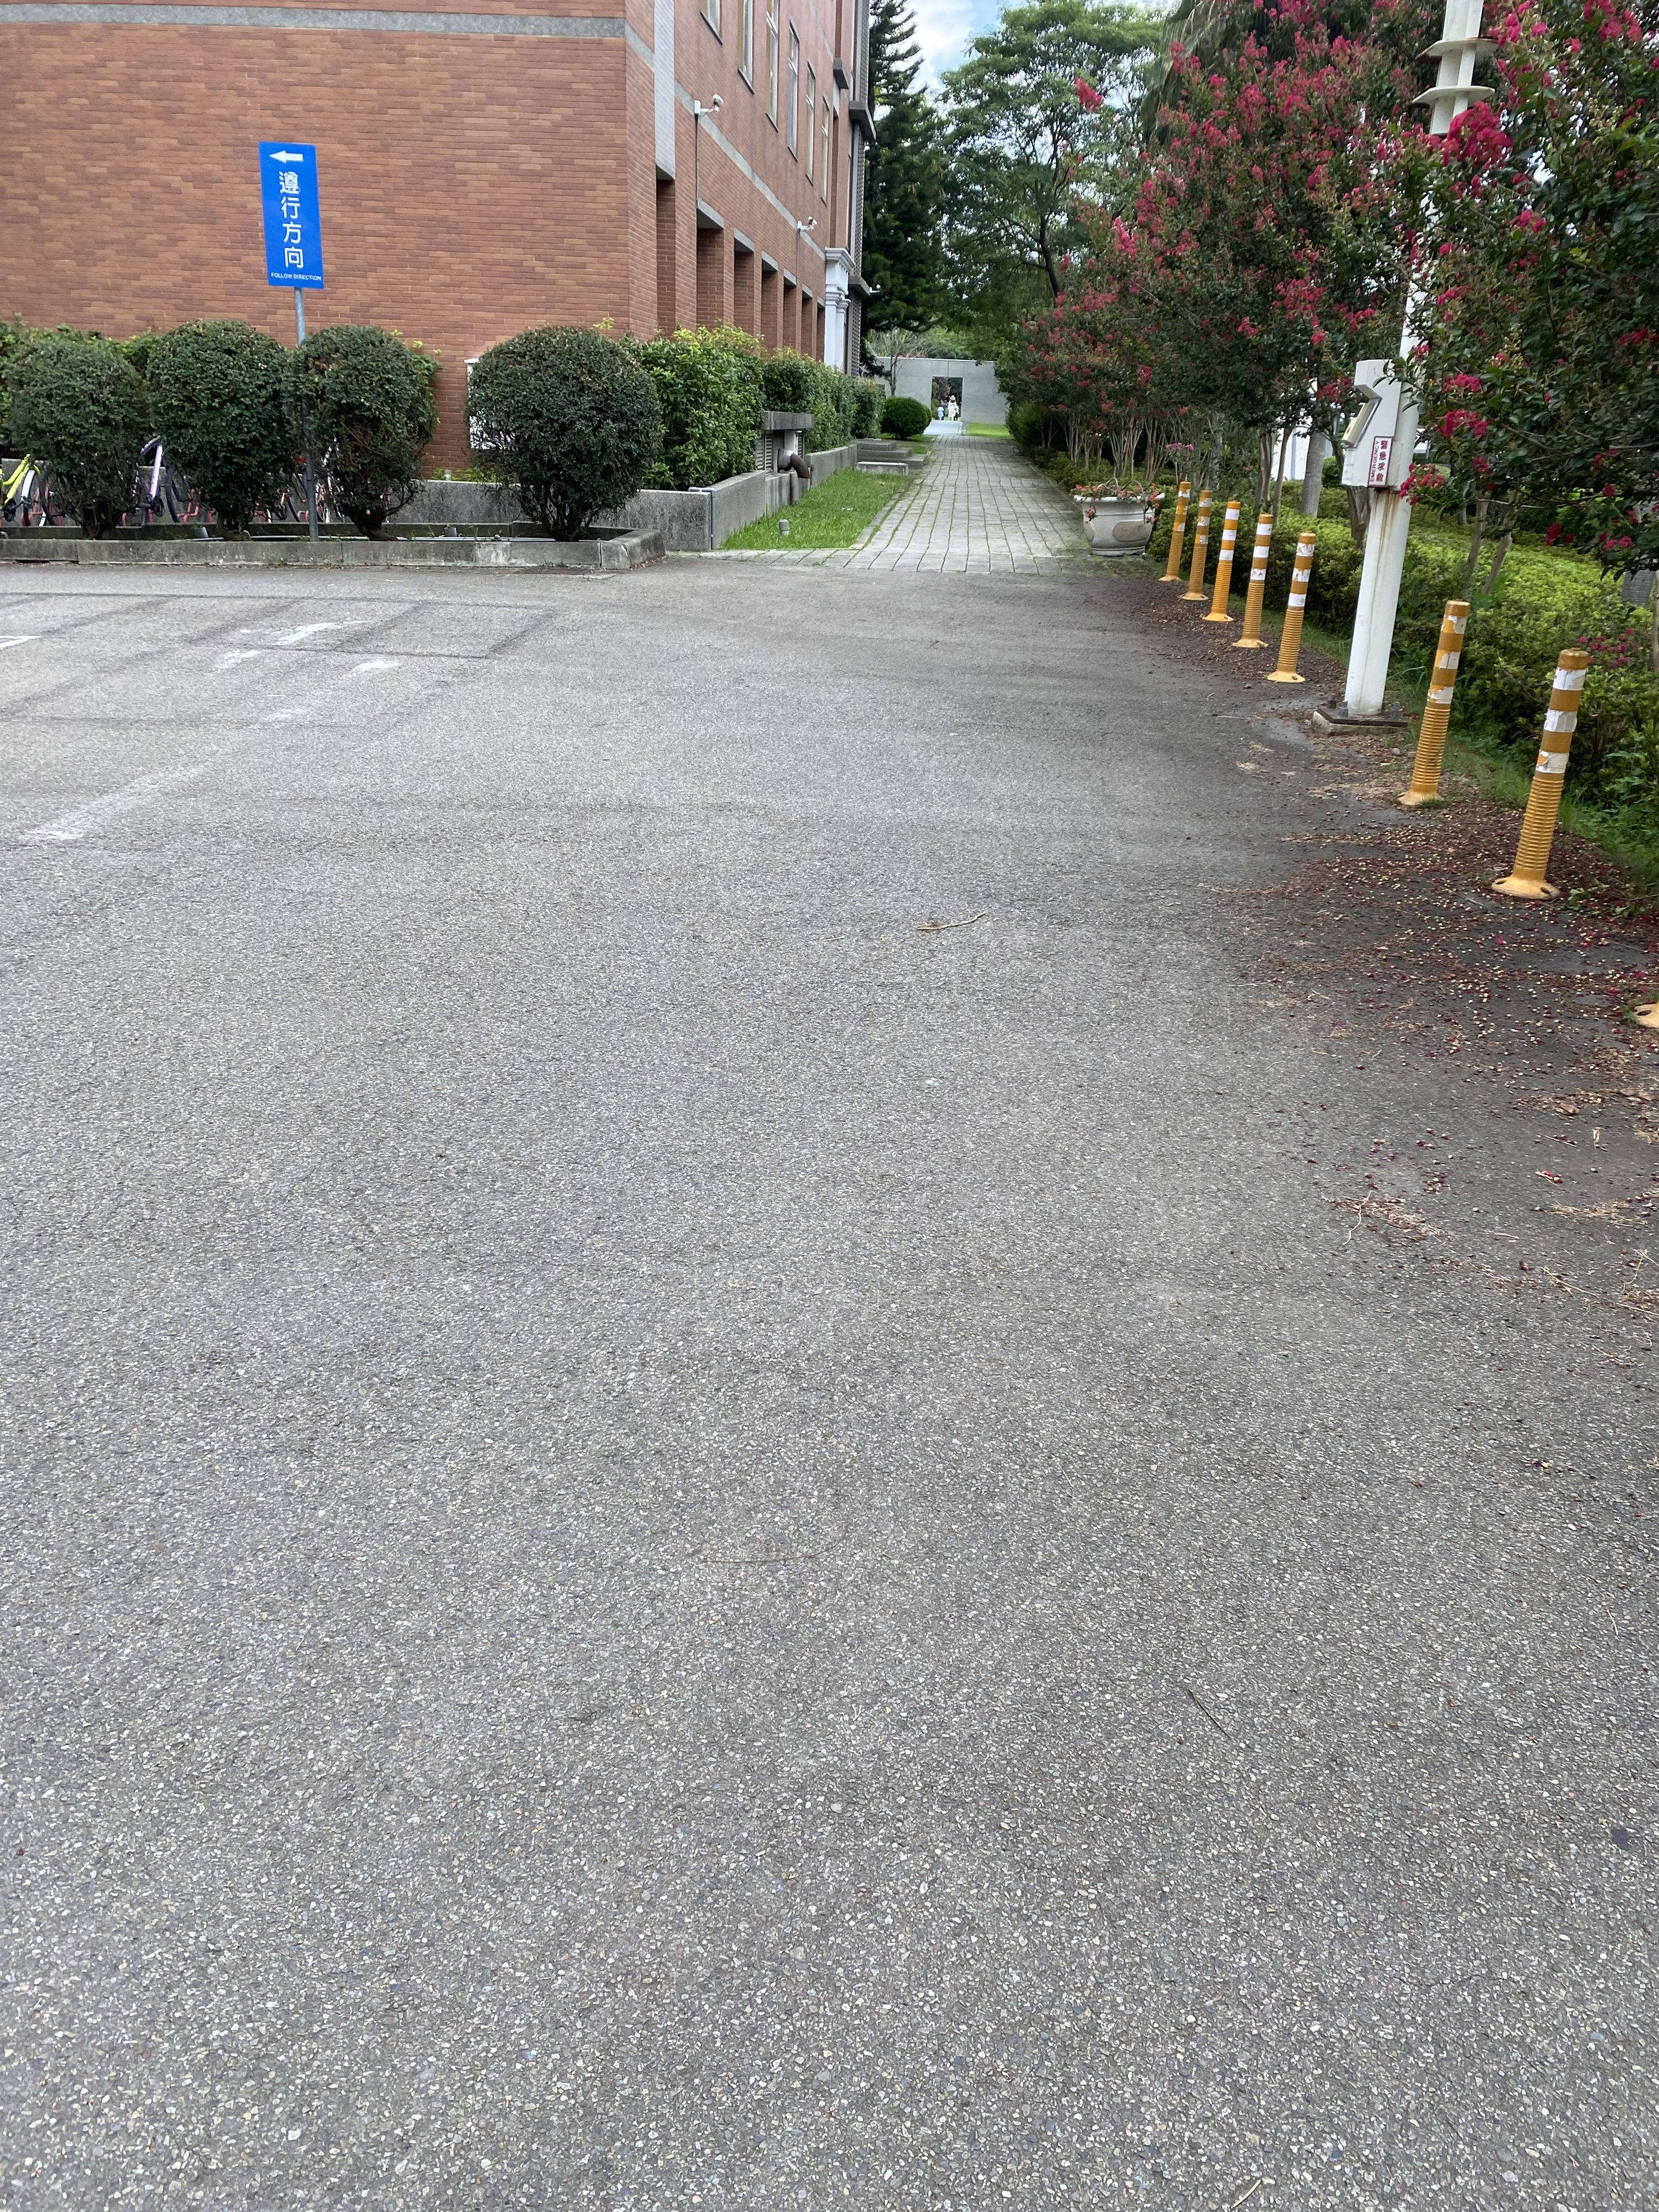0: (51, 559, 1659, 2205)
sidewalk: (793, 392, 1136, 636)
